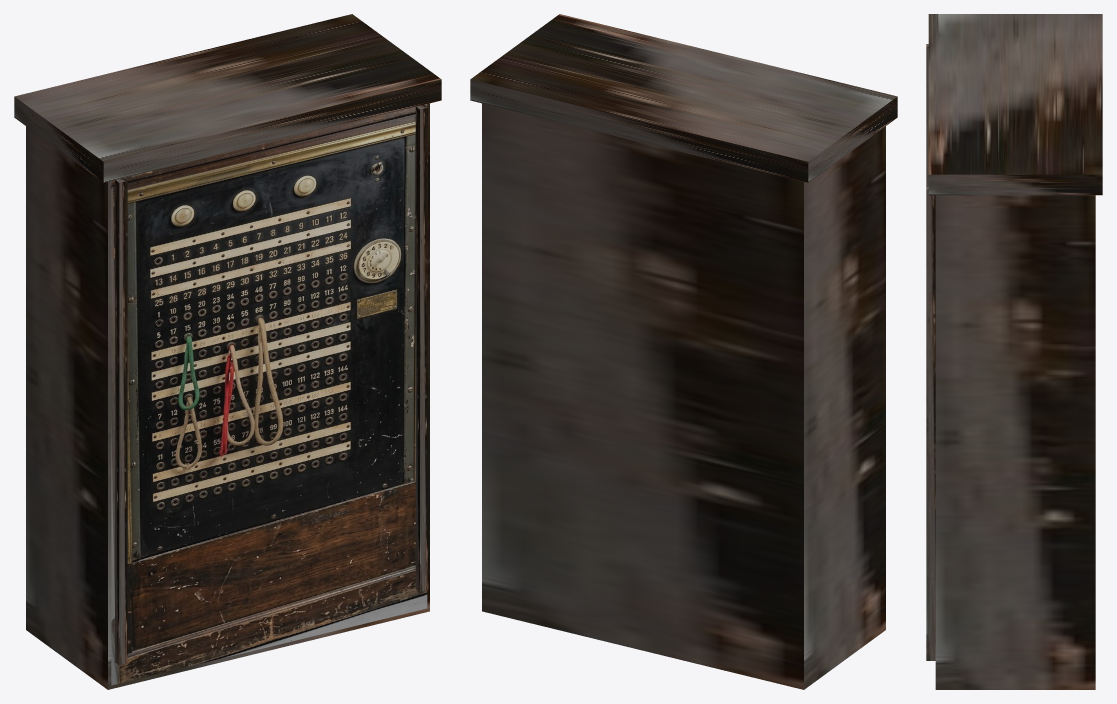
The model's file is santral.glb.
3 views of the same model, side by side, from view 1: azimuth 30°, elevation 25°; view 2: azimuth 150°, elevation 25°; view 3: azimuth 270°, elevation 25° (orthographic). The views are drawn at different scales.
Visible parts, largest first — view 1: santral; view 2: santral; view 3: santral.
Boxes of the visible parts, x1,y1,x2,y2 form: santral: (14, 14, 441, 689); santral: (470, 14, 897, 689); santral: (926, 14, 1102, 689).
Bounding box in the file's own units: 1.07 × 1.61 × 0.496.
1 material, 1 textured.
